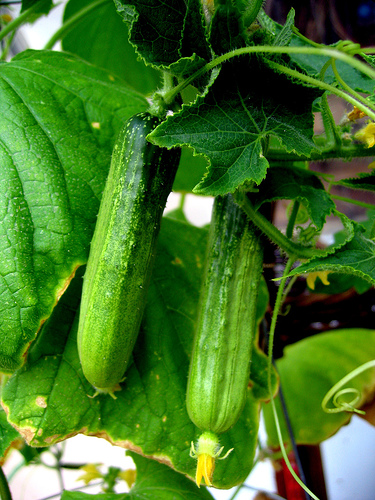cucumber: (75, 101, 183, 400), (183, 177, 263, 487)
